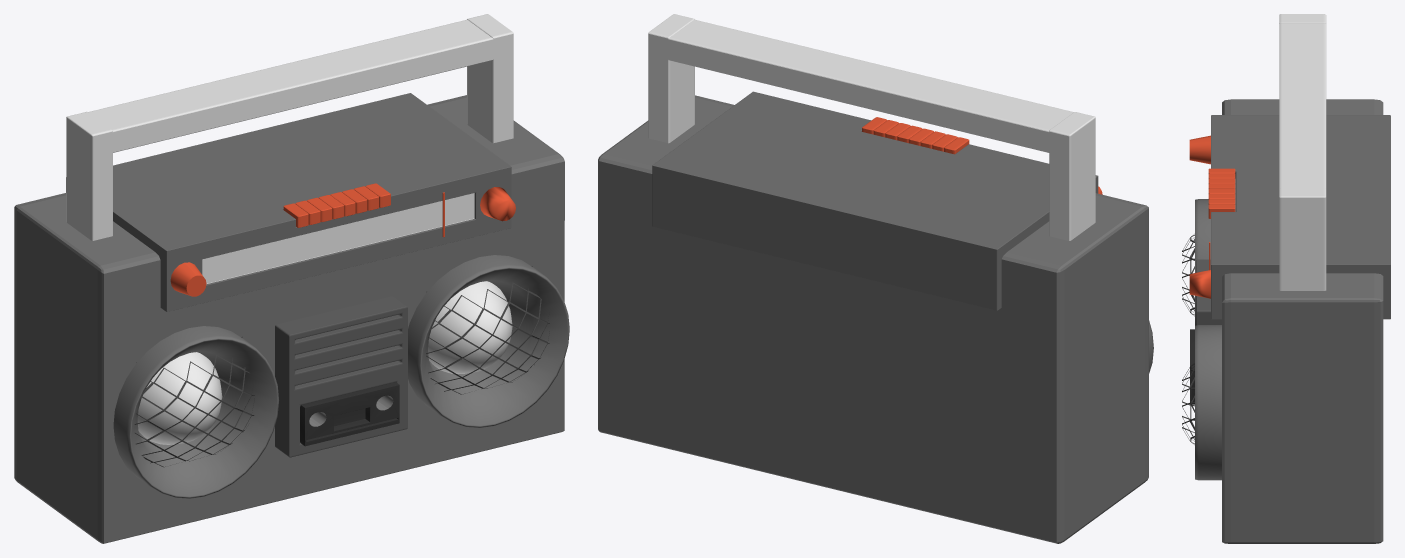
The model's file is Radio.fbx.
3 renders of one model, left to right at view 1: azimuth 30°, elevation 25°; view 2: azimuth 150°, elevation 25°; view 3: azimuth 270°, elevation 25°, orthographic. The views are drawn at different scales.
Visible parts, largest first — view 1: Circle.001, Cube.001, Cube.007, Circle.003, Circle.002, Cube, Grid, Cube.003, Cube.004, Cube.005, Cube.006; view 2: Circle.001, Cube.001, Cube.007, Cube.004; view 3: Circle.001, Cube.001, Cube.007, Circle.002, Cube.004, Circle.003, Grid, Cube, Cube.005, Cube.006, Cube.003.
Part boxes in pixels (bbox=[...]): Circle.001: bbox=[14, 95, 564, 543]; Cube.001: bbox=[66, 93, 511, 311]; Cube.007: bbox=[66, 14, 513, 240]; Circle.003: bbox=[113, 326, 278, 498]; Circle.002: bbox=[408, 255, 569, 427]; Cube: bbox=[275, 296, 407, 457]; Grid: bbox=[134, 282, 549, 467]; Cube.003: bbox=[300, 382, 399, 446]; Cube.004: bbox=[283, 183, 390, 227]; Cube.005: bbox=[170, 262, 206, 296]; Cube.006: bbox=[480, 187, 515, 221]; Circle.001: bbox=[598, 95, 1148, 543]; Cube.001: bbox=[652, 91, 1098, 310]; Cube.007: bbox=[648, 14, 1095, 240]; Cube.004: bbox=[862, 117, 969, 154]; Circle.001: bbox=[1222, 99, 1383, 543]; Cube.001: bbox=[1209, 115, 1390, 319]; Cube.007: bbox=[1279, 14, 1326, 290]; Circle.002: bbox=[1195, 325, 1221, 480]; Cube.004: bbox=[1208, 168, 1235, 218]; Circle.003: bbox=[1195, 199, 1210, 325]; Grid: bbox=[1182, 234, 1194, 444]; Cube: bbox=[1196, 259, 1221, 325]; Cube.005: bbox=[1189, 135, 1210, 164]; Cube.006: bbox=[1189, 270, 1210, 298]; Cube.003: bbox=[1190, 329, 1194, 404].
Bounding box in the file's own units: 344 × 271 × 151.
